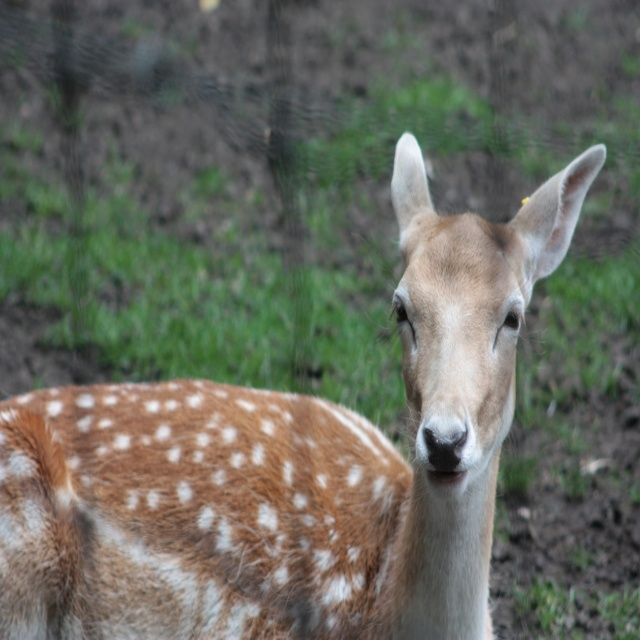Deer: (0, 142, 608, 639)
